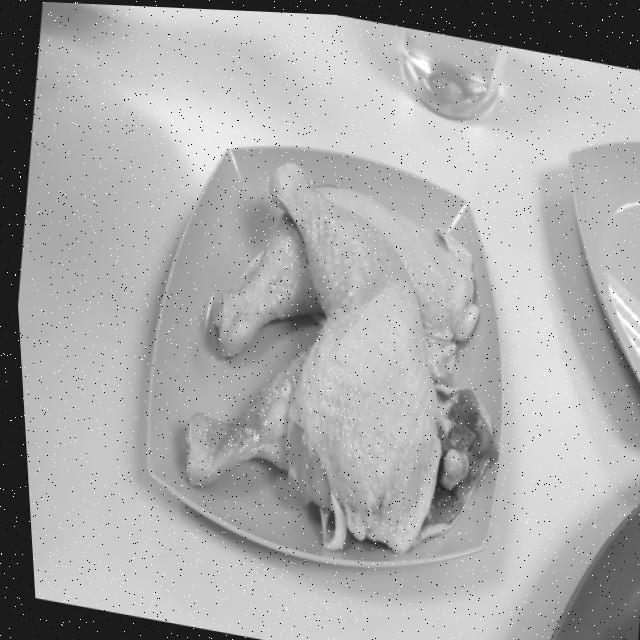quater: (270, 162, 436, 544), (205, 186, 488, 360), (172, 396, 500, 504)
